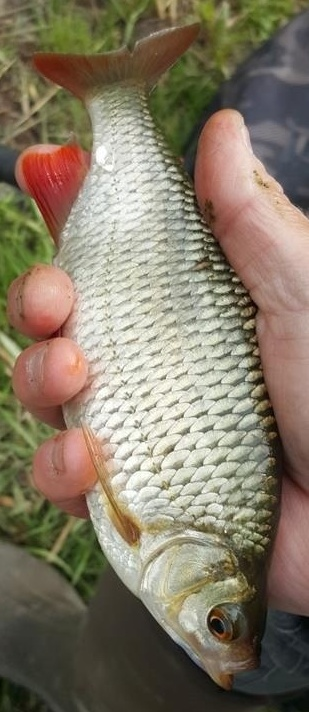Scardinius erythrophthalmus: (20, 20, 289, 692)
